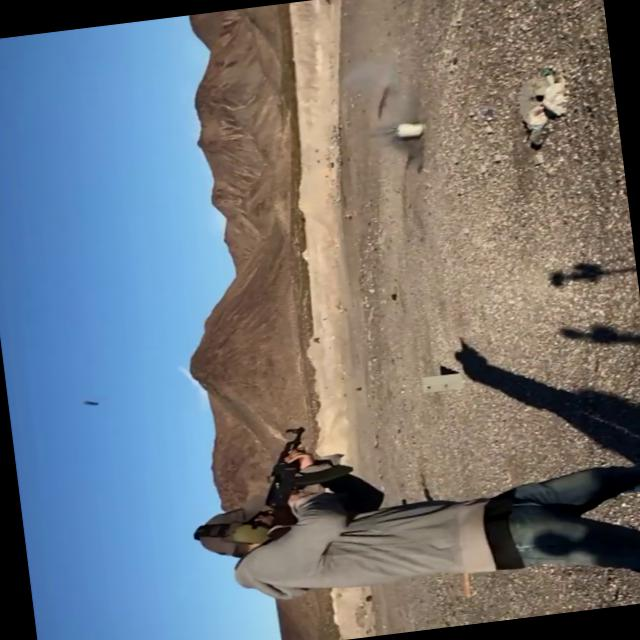long weapon: (240, 411, 362, 541)
